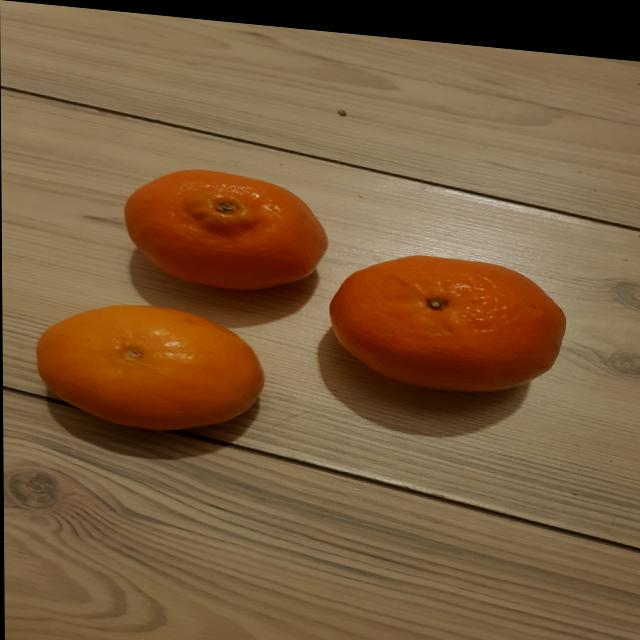Orange: (327, 247, 566, 385), (35, 303, 263, 430), (124, 166, 329, 288)
